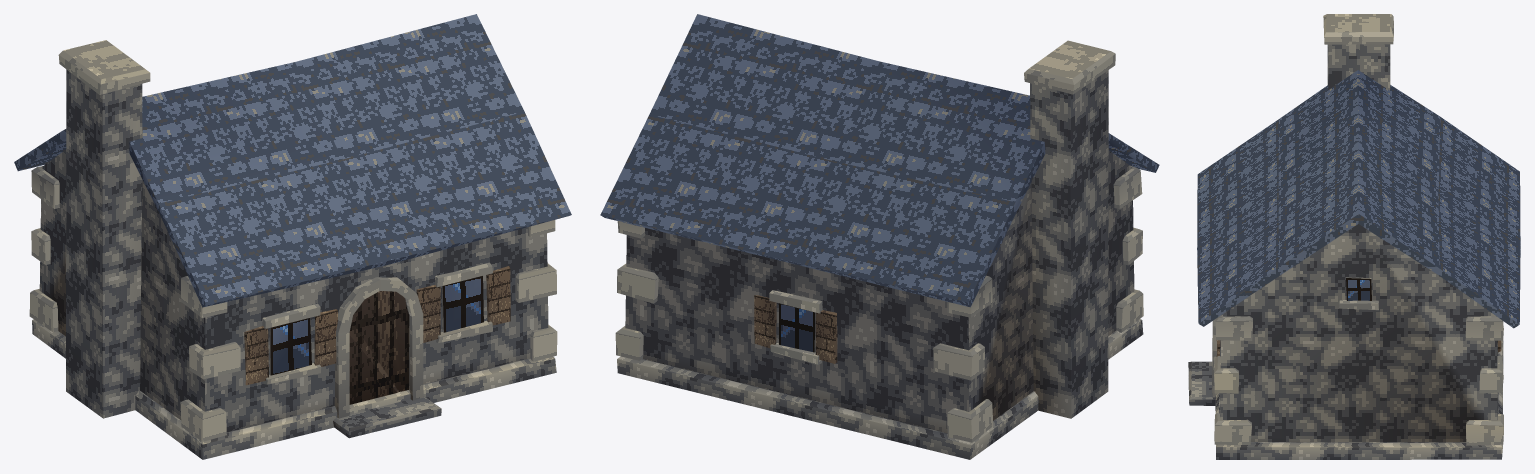
Rendered from vlg.cottage__stone.glb.
3 views of the same model, side by side, from view 1: azimuth 30°, elevation 25°; view 2: azimuth 150°, elevation 25°; view 3: azimuth 270°, elevation 25° (orthographic). The views are drawn at different scales.
Visible parts, largest first — view 1: kit_roof, kit_stonework, kit_walls, kit_fittings; view 2: kit_roof, kit_walls, kit_stonework, kit_fittings; view 3: kit_roof, kit_walls, kit_stonework, kit_fittings.
Part boxes in pixels (bbox=[...]): kit_roof: bbox=[14, 14, 571, 307]; kit_stonework: bbox=[29, 40, 557, 459]; kit_walls: bbox=[39, 149, 548, 432]; kit_fittings: bbox=[244, 262, 510, 438]; kit_roof: bbox=[600, 14, 1159, 307]; kit_walls: bbox=[625, 150, 1134, 433]; kit_stonework: bbox=[615, 40, 1143, 459]; kit_fittings: bbox=[754, 290, 837, 364]; kit_roof: bbox=[1197, 70, 1520, 328]; kit_walls: bbox=[1220, 224, 1497, 442]; kit_stonework: bbox=[1214, 14, 1503, 459]; kit_fittings: bbox=[1188, 277, 1503, 405].
Size of the model in its own units: 6.95 by 5.69 by 5.96.
Materials: 7 (7 with a texture image).
